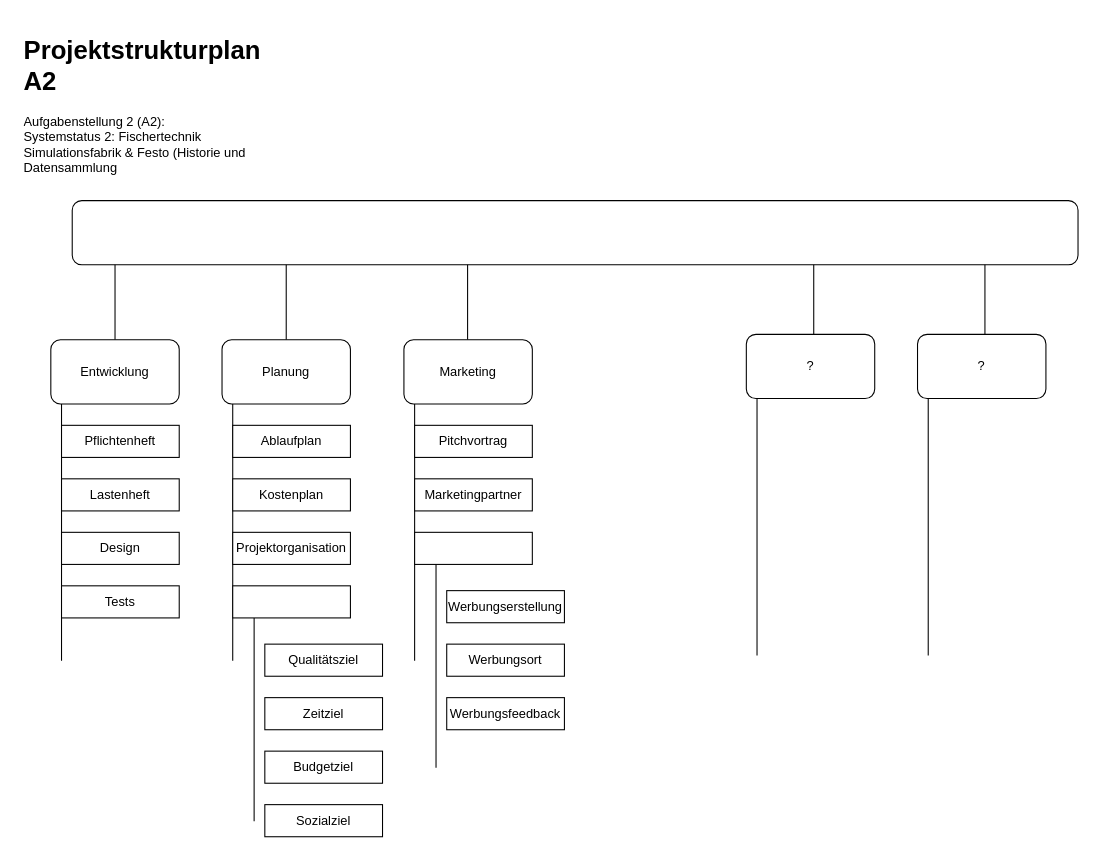
Some shapes in this 1097 by 855 pixel diagram are drawn without their labels. The shapes that lost their labels are listed below. From the top down, each one's centre as x and y in pixels, then its label:
At point 574,232: "Projekt A2".
At point 473,547: "Werbung".
At point 291,601: "Projektziel".
